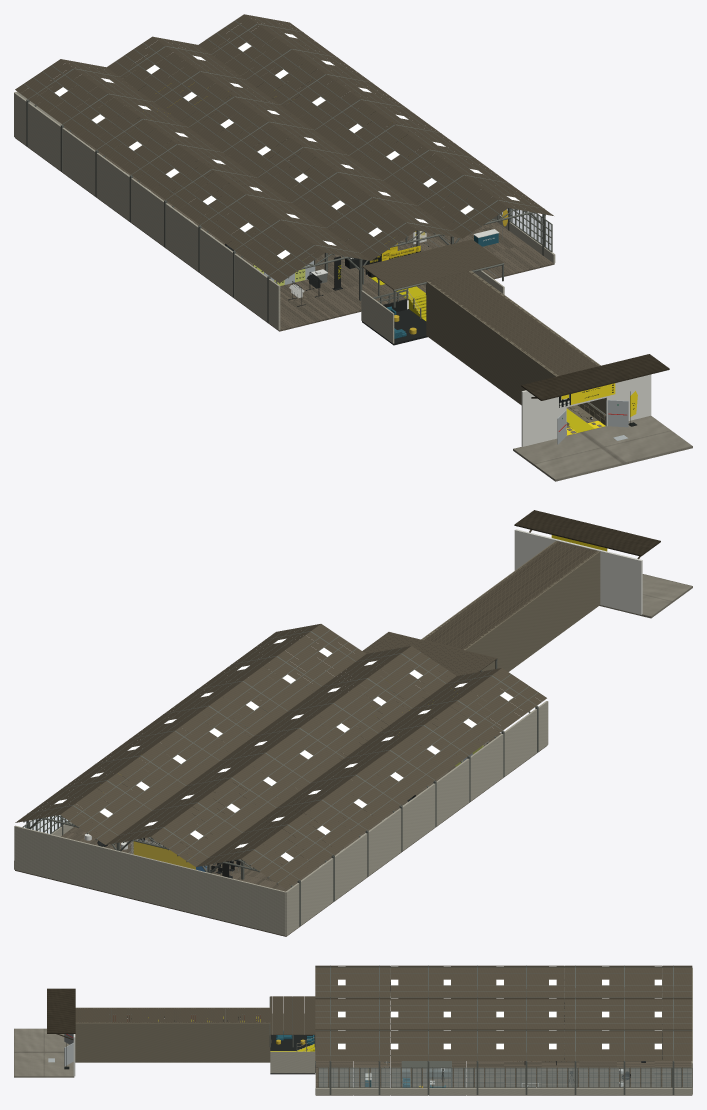
The model's file is one16.glb.
3 renders of one model, top to bottom at view 1: azimuth 30°, elevation 25°; view 2: azimuth 150°, elevation 25°; view 3: azimuth 270°, elevation 25°, orthographic. The views are drawn at different scales.
Visible parts, largest first — view 1: roof • removable pitched timber and skylights, Architecture • Y braced timber and river windows, Entrance • weathered loading corridor, umbrellas and yellow , Floor • timber planks and embedded rails, Exterior forecourt, roof_exterior_canopy, Exterior white doorway wing, Exterior white doorway wing.001; view 2: roof • removable pitched timber and skylights, Architecture • Y braced timber and river windows, Entrance • weathered loading corridor, umbrellas and yellow , roof_exterior_canopy, Exterior white doorway wing, Floor • timber planks and embedded rails, Exterior forecourt, Exterior white doorway wing.001, Yellow event backdrop; view 3: roof • removable pitched timber and skylights, Architecture • Y braced timber and river windows, Entrance • weathered loading corridor, umbrellas and yellow , Floor • timber planks and embedded rails, Exterior forecourt, roof_exterior_canopy.
Boxes of the visible parts, box(x1,y1,x2,y2) form: roof • removable pitched timber and skylights: box(15, 14, 599, 375); Architecture • Y braced timber and river windows: box(14, 16, 555, 330); Entrance • weathered loading corridor, umbrellas and yellow : box(253, 245, 606, 434); Floor • timber planks and embedded rails: box(15, 126, 554, 331); Exterior forecourt: box(513, 415, 692, 481); roof_exterior_canopy: box(521, 354, 669, 400); Exterior white doorway wing: box(521, 390, 566, 446); Exterior white doorway wing.001: box(606, 374, 651, 426); roof • removable pitched timber and skylights: box(15, 541, 598, 888); Architecture • Y braced timber and river windows: box(14, 625, 548, 935); Entrance • weathered loading corridor, umbrellas and yellow : box(421, 541, 600, 766); roof_exterior_canopy: box(514, 510, 660, 556); Exterior white doorway wing: box(598, 549, 642, 614); Floor • timber planks and embedded rails: box(15, 733, 547, 936); Exterior forecourt: box(599, 574, 692, 618); Exterior white doorway wing.001: box(514, 529, 558, 570); Yellow event backdrop: box(133, 841, 195, 869); roof • removable pitched timber and skylights: box(75, 965, 692, 1067); Architecture • Y braced timber and river windows: box(315, 965, 692, 1094); Entrance • weathered loading corridor, umbrellas and yellow : box(75, 997, 315, 1074); Floor • timber planks and embedded rails: box(315, 1000, 692, 1095); Exterior forecourt: box(14, 1028, 74, 1077); roof_exterior_canopy: box(47, 988, 75, 1033).
Size of the model in its own units: 30.22 by 8.2 by 90.09.
Materials: 98 (55 with a texture image).
